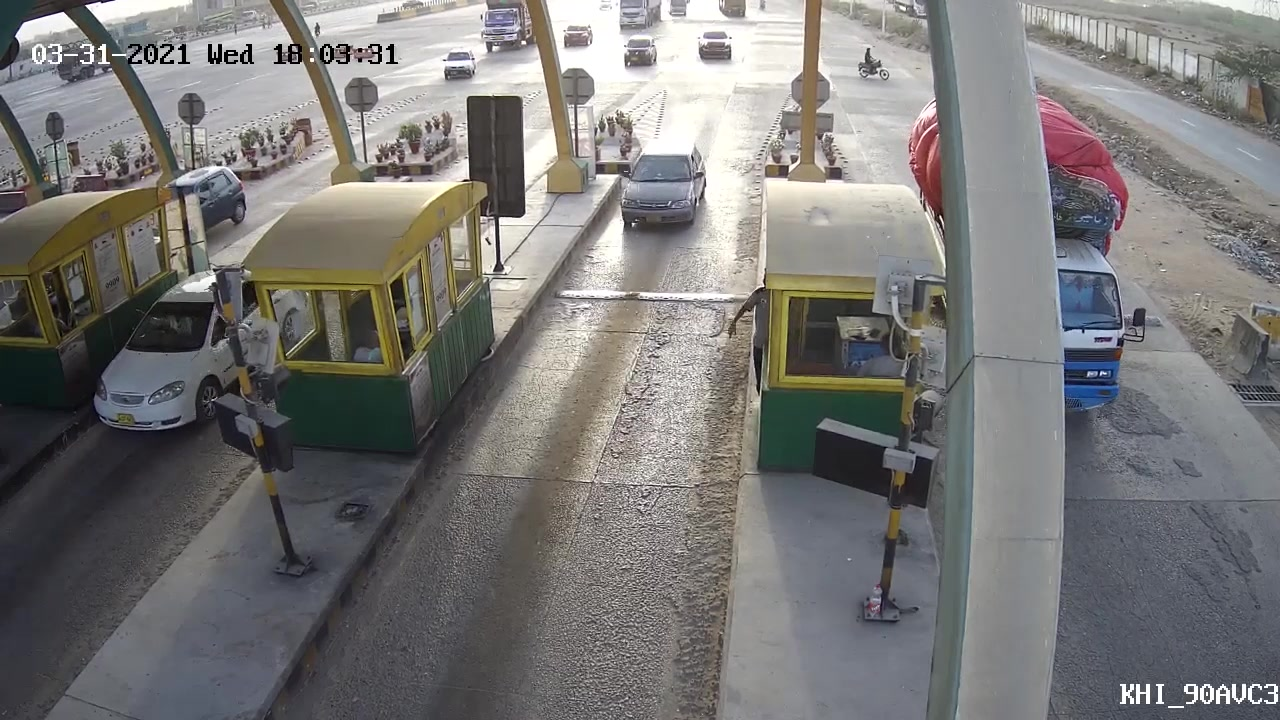F1: (601, 120, 723, 239)
